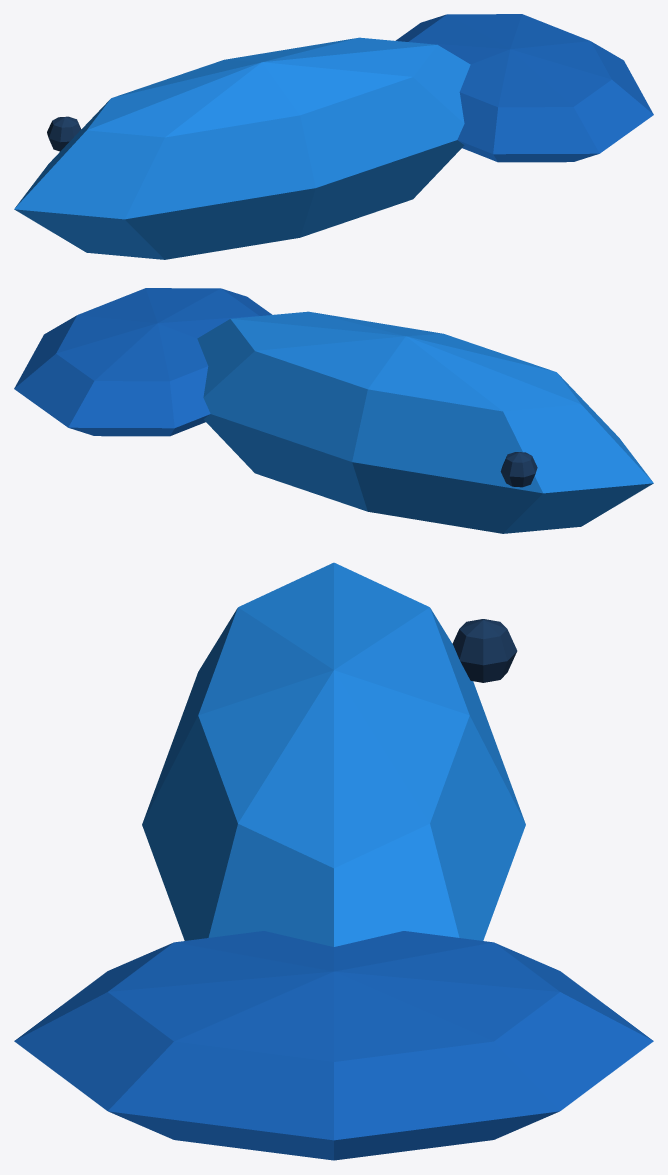
The model's file is Item_Fish_v001.fbx.
3 views of the same model, one above another, from view 1: azimuth 30°, elevation 25°; view 2: azimuth 150°, elevation 25°; view 3: azimuth 270°, elevation 25° (orthographic). The views are drawn at different scales.
Visible parts, largest first — view 1: FishBody, FishTail, FishEye; view 2: FishBody, FishTail, FishEye; view 3: FishBody, FishTail, FishEye.
Boxes of the visible parts, x1,y1,x2,y2 form: FishBody: (14,37,470,259); FishTail: (395,14,653,162); FishEye: (47,116,81,151); FishBody: (197,311,653,533); FishTail: (14,288,272,436); FishEye: (500,452,537,487); FishBody: (142,562,525,946); FishTail: (14,931,653,1160); FishEye: (452,619,517,682).
Size of the model in its own units: 22.12 by 6 by 11.25.
